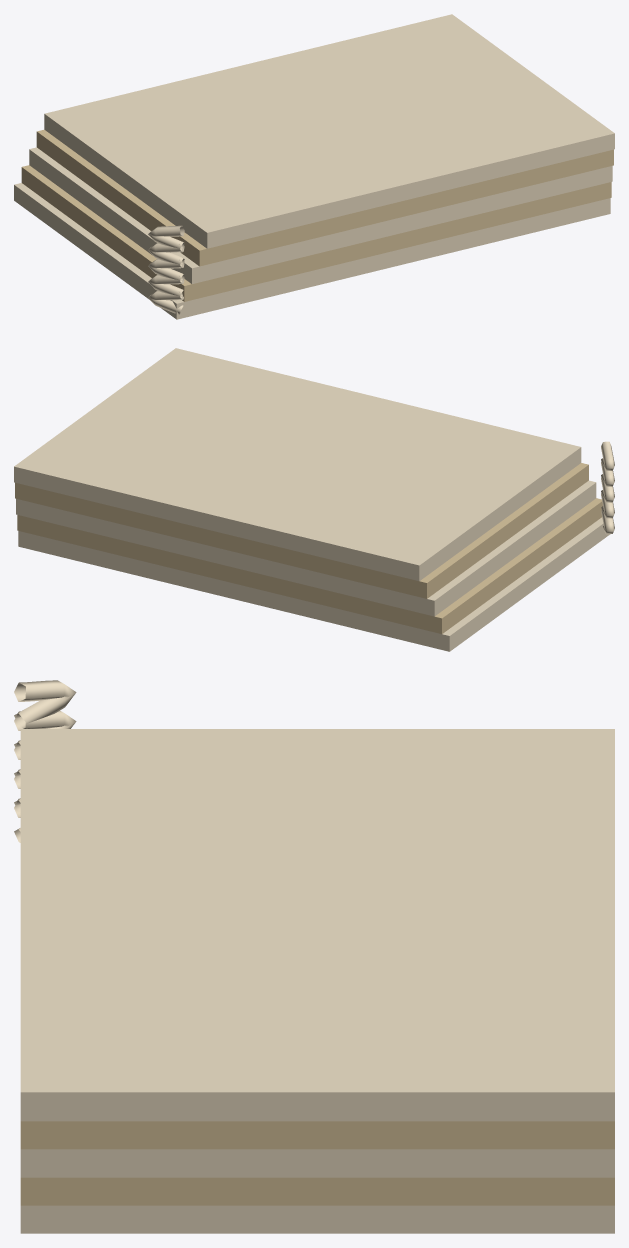
File: folded-linen.glb
3 renders of one model, top to bottom at view 1: azimuth 30°, elevation 25°; view 2: azimuth 150°, elevation 25°; view 3: azimuth 270°, elevation 25°, orthographic. The views are drawn at different scales.
Parts seen in each view (by area): view 1: fabric-fold-4, fabric-fold-0, fabric-fold-1, fabric-fold-3, fabric-fold-2, fold-edge-4, fold-edge-2, fold-edge-3, fold-edge-1, fold-edge-0; view 2: fabric-fold-4, fabric-fold-0, fabric-fold-1, fabric-fold-2, fabric-fold-3; view 3: fabric-fold-4, fabric-fold-2, fabric-fold-0, fabric-fold-1, fabric-fold-3, fold-edge-4, fold-edge-3.
Part boxes in pixels (bbox=[...]): fabric-fold-4: bbox=[44, 14, 614, 248]; fabric-fold-0: bbox=[14, 183, 610, 319]; fabric-fold-1: bbox=[21, 165, 611, 301]; fabric-fold-3: bbox=[36, 129, 613, 266]; fabric-fold-2: bbox=[29, 147, 612, 283]; fold-edge-4: bbox=[148, 225, 184, 251]; fold-edge-2: bbox=[148, 259, 184, 283]; fold-edge-3: bbox=[148, 243, 184, 267]; fold-edge-1: bbox=[148, 275, 184, 299]; fold-edge-0: bbox=[148, 290, 183, 315]; fabric-fold-4: bbox=[14, 348, 581, 581]; fabric-fold-0: bbox=[18, 517, 609, 651]; fabric-fold-1: bbox=[17, 498, 602, 633]; fabric-fold-2: bbox=[16, 480, 596, 616]; fabric-fold-3: bbox=[15, 463, 588, 598]; fabric-fold-4: bbox=[20, 729, 614, 1121]; fabric-fold-2: bbox=[20, 1149, 614, 1177]; fabric-fold-0: bbox=[20, 1205, 614, 1233]; fabric-fold-1: bbox=[20, 1177, 614, 1205]; fabric-fold-3: bbox=[20, 1121, 614, 1149]; fold-edge-4: bbox=[14, 680, 76, 728]; fold-edge-3: bbox=[14, 711, 76, 755].
Bounding box in the file's own units: 0.8366 × 0.161 × 0.5257.
